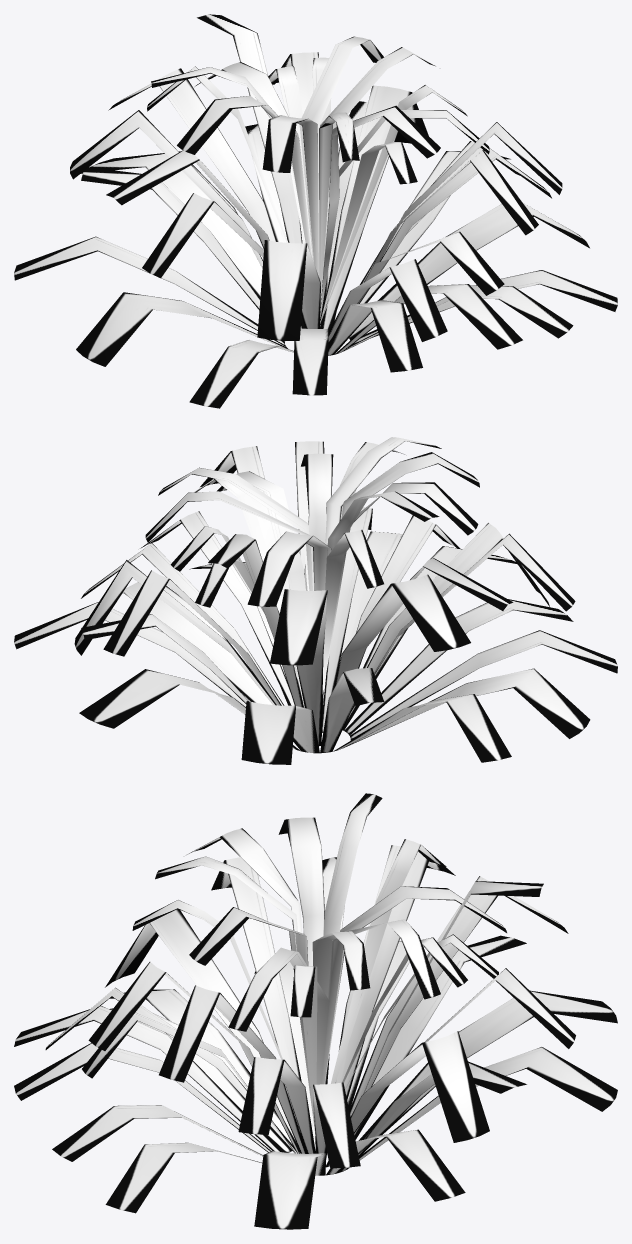
The model's file is Flower 01.fbx.
The picture shows the model from 3 angles, top to bottom: view 1: azimuth 30°, elevation 25°; view 2: azimuth 150°, elevation 25°; view 3: azimuth 270°, elevation 25°; orthographic projection. The views are drawn at different scales.
Visible parts, largest first — view 1: Cube; view 2: Cube; view 3: Cube.
Boxes of the visible parts, bbox=[...] form: Cube: bbox=[14, 14, 617, 408]; Cube: bbox=[14, 437, 617, 764]; Cube: bbox=[14, 793, 617, 1229].
Size of the model in its own units: 1.23 by 0.6661 by 1.21.
1 material, 1 textured.
